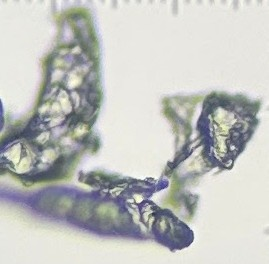microplastic: (1, 7, 194, 252), (162, 90, 262, 222)
